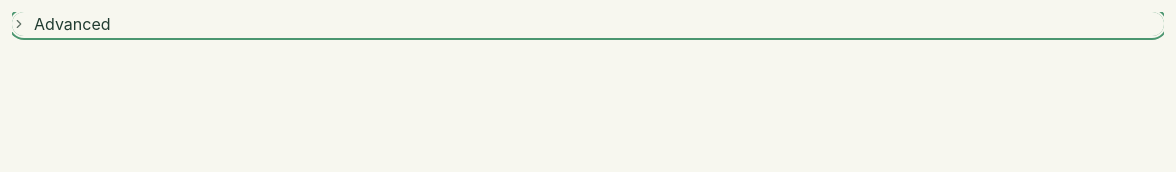
Test case: nested disclosures keep edits mounted while hiding closed content from navigation
The width and height of the screenshot is (1176, 172).
Step 1. Press Enter
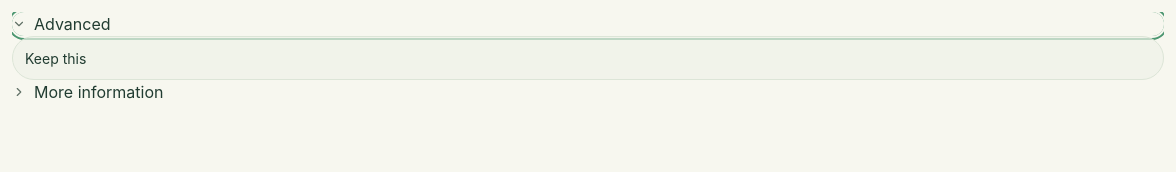
Step 2. Type " draft" into the field named "Saved draft" → {"x": 588, "y": 58}, box top-left (12, 36), bottom-right (1164, 80)
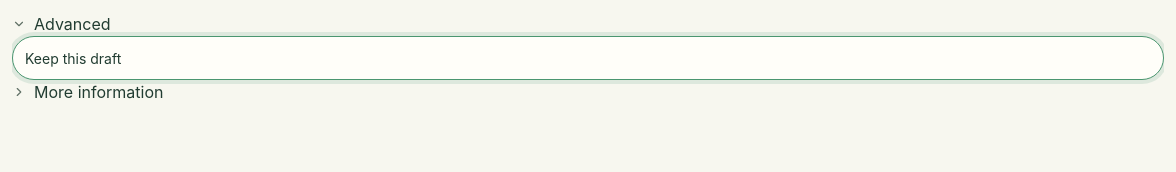
Step 3. Click the button "More information" → {"x": 99, "y": 92}, box top-left (12, 80), bottom-right (1164, 104)
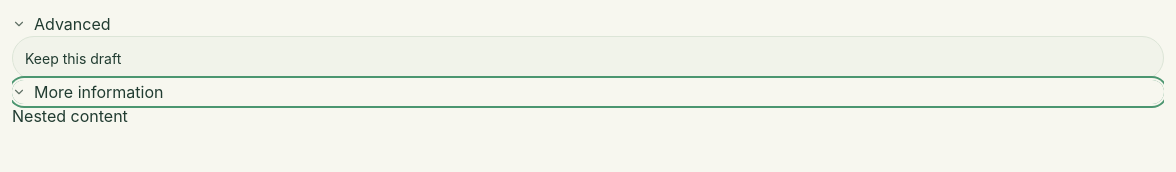
Step 4. Click the button "Advanced" → {"x": 72, "y": 24}, box top-left (12, 12), bottom-right (1164, 36)
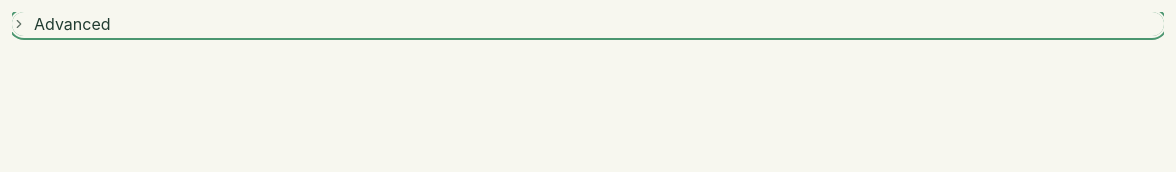
Expected: the button "More information" is gone
Step 5. Click the button "Advanced" → {"x": 72, "y": 24}, box top-left (12, 12), bottom-right (1164, 36)
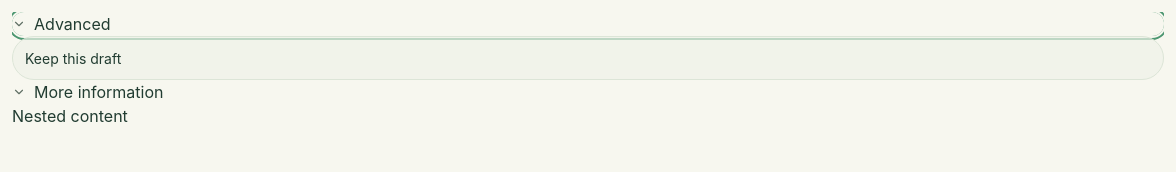
Expected: the button "More information" is expanded, top-left (12, 80), bottom-right (1164, 104)
Expected: the field holds "Keep this draft", top-left (12, 36), bottom-right (1164, 80)
